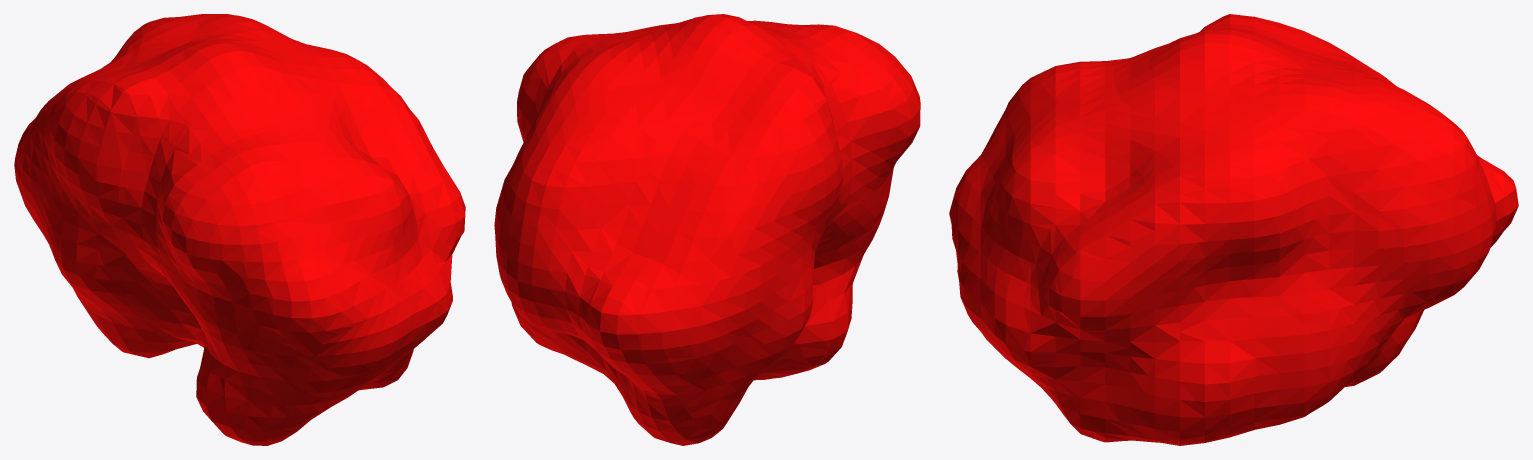
The model's file is ybhB_coarse.dae.
3 renders of one model, left to right at view 1: azimuth 30°, elevation 25°; view 2: azimuth 150°, elevation 25°; view 3: azimuth 270°, elevation 25°, orthographic. The views are drawn at different scales.
Visible parts, largest first — view 1: ybhB; view 2: ybhB; view 3: ybhB.
Boxes of the visible parts, bbox=[...] form: ybhB: bbox=[14, 14, 465, 445]; ybhB: bbox=[494, 14, 920, 445]; ybhB: bbox=[949, 14, 1518, 445].
Bounding box in the file's own units: 34.58 × 38.2 × 50.96.
